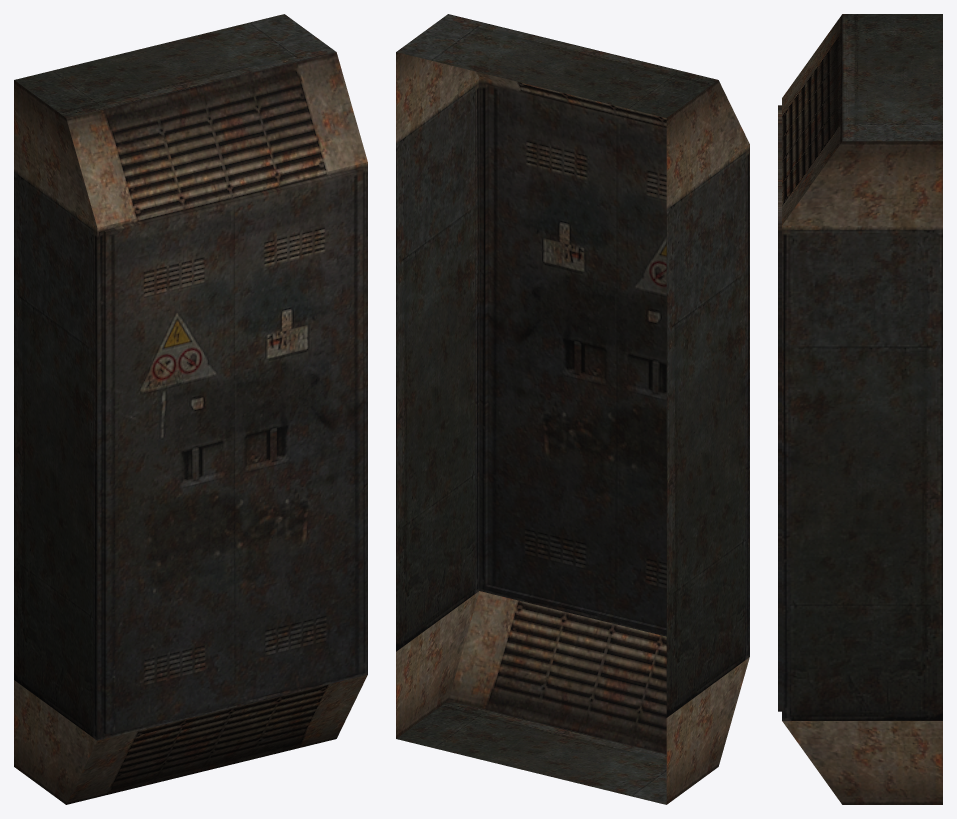
File: electrical_equipment_1.dae
3 views of the same model, side by side, from view 1: azimuth 30°, elevation 25°; view 2: azimuth 150°, elevation 25°; view 3: azimuth 270°, elevation 25° (orthographic). The views are drawn at different scales.
Visible parts, largest first — view 1: electrical_equipment_1; view 2: electrical_equipment_1; view 3: electrical_equipment_1.
Part boxes in pixels (left/top/right/bottom): electrical_equipment_1: left=14, top=14, right=367, bottom=804; electrical_equipment_1: left=396, top=14, right=749, bottom=804; electrical_equipment_1: left=778, top=14, right=942, bottom=804.
Size of the model in its own units: 1.2 by 0.656 by 2.91.
1 material, 1 textured.
